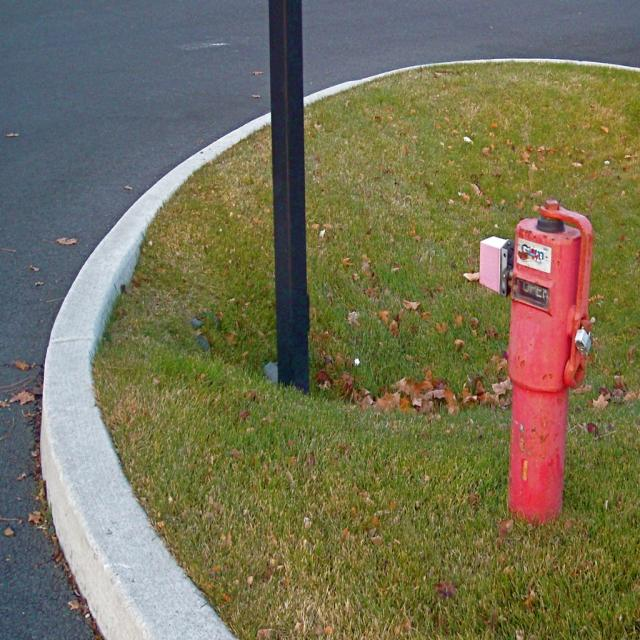fire_hydrant: (480, 200, 590, 523)
